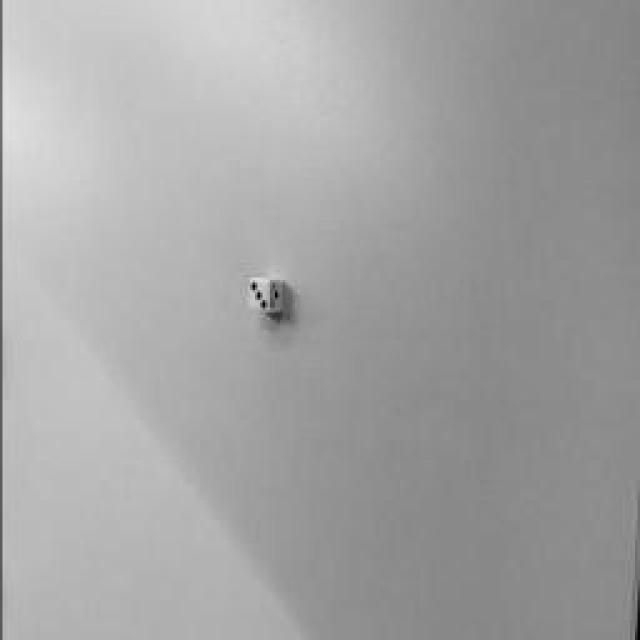dice_3: (249, 278, 269, 312)
